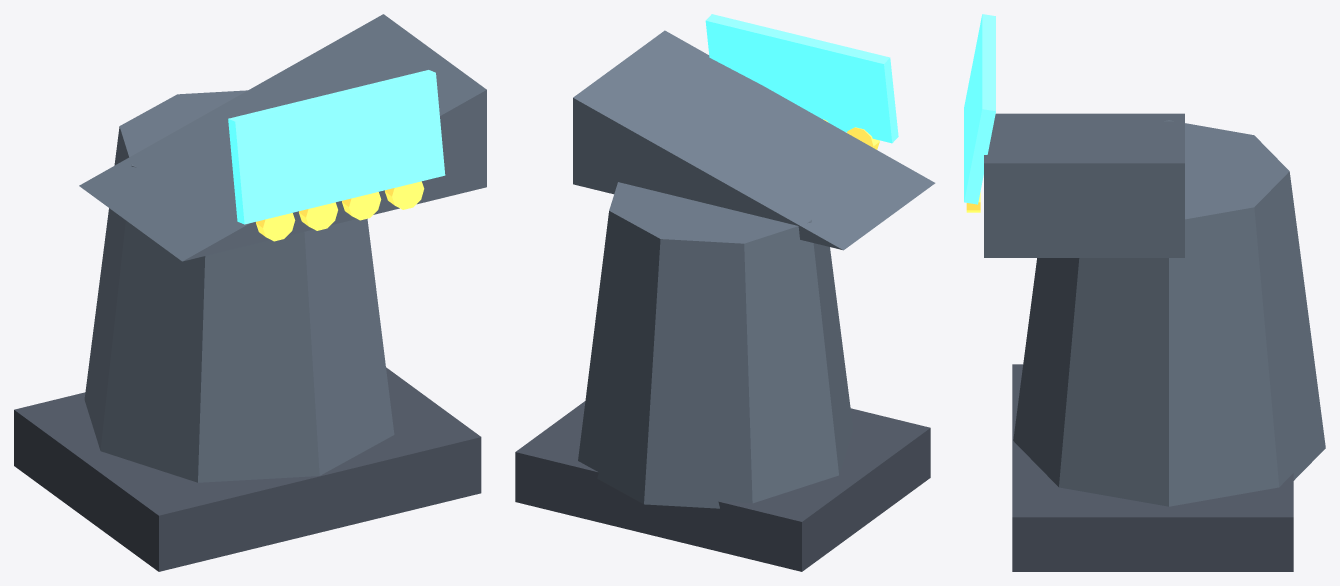
File: AXM-CONSOLE-001_LOD1.glb
3 renders of one model, left to right at view 1: azimuth 30°, elevation 25°; view 2: azimuth 150°, elevation 25°; view 3: azimuth 270°, elevation 25°, orthographic. The views are drawn at different scales.
Parts seen in each view (by area): view 1: pedestal, base, panel, screen, button__l01, button__l03, button__l00, button__l02; view 2: pedestal, panel, base, screen; view 3: pedestal, panel, base, screen.
Part boxes in pixels (x1,y1,x2,y2): pedestal: (84, 90, 394, 482); base: (14, 367, 481, 571); panel: (79, 14, 486, 261); screen: (228, 70, 445, 224); button__l01: (299, 202, 337, 230); button__l03: (385, 181, 424, 209); button__l00: (256, 213, 295, 241); button__l02: (342, 192, 381, 220); pedestal: (578, 182, 853, 508); panel: (573, 30, 935, 250); base: (515, 401, 930, 571); screen: (705, 14, 898, 143); pedestal: (1013, 120, 1325, 506); panel: (984, 113, 1184, 257); base: (1012, 364, 1293, 571); screen: (964, 14, 995, 204).
Size of the model in its own units: 0.9 by 1.19 by 0.8998.
